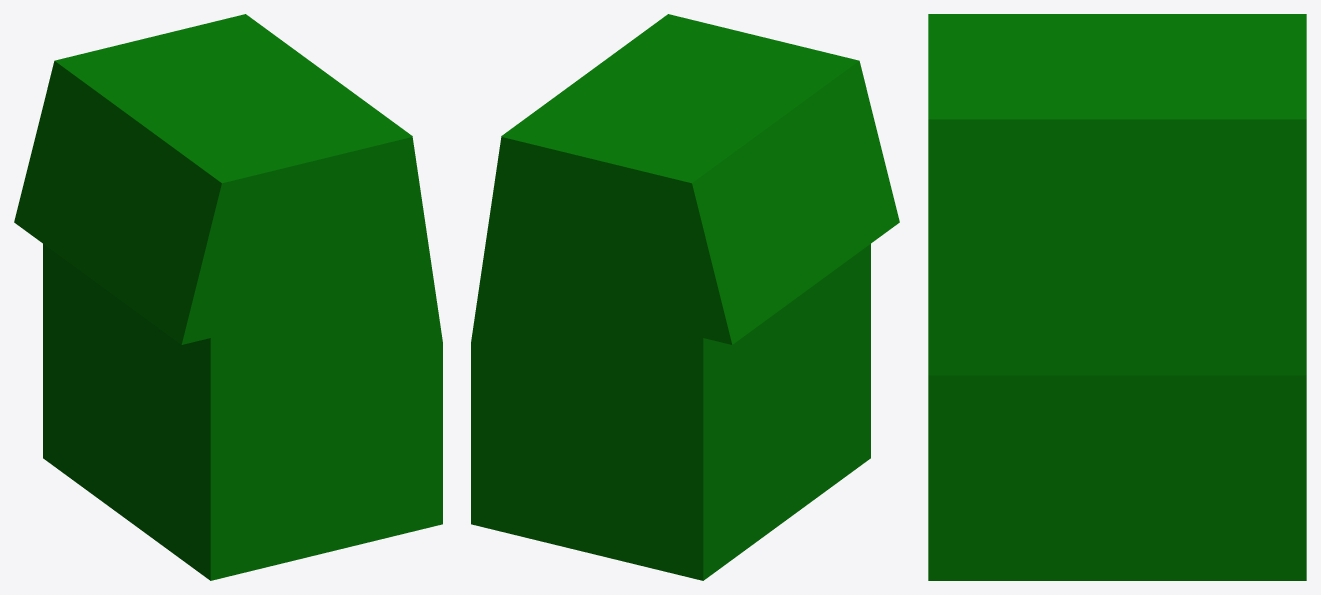
3 renders of one model, left to right at view 1: azimuth 30°, elevation 25°; view 2: azimuth 150°, elevation 25°; view 3: azimuth 270°, elevation 25°, orthographic. The views are drawn at different scales.
Parts seen in each view (by area): view 1: Extruded; view 2: Extruded; view 3: Extruded.
Boxes of the visible parts, left/top/right/bottom form: Extruded: left=14, top=14, right=442, bottom=580; Extruded: left=471, top=14, right=899, bottom=580; Extruded: left=928, top=14, right=1306, bottom=580.
Bounding box in the file's own units: 9 × 13 × 10.
